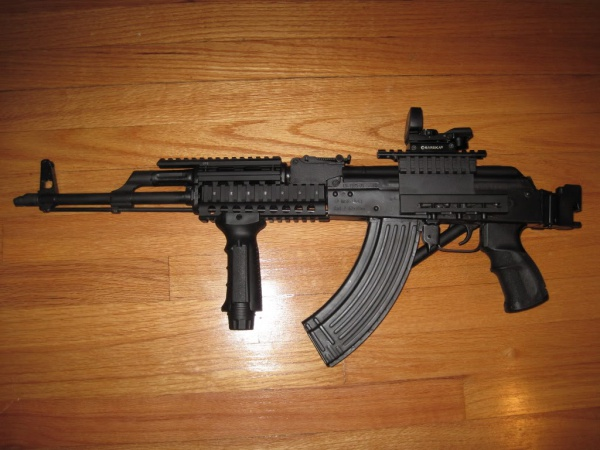ak47: (13, 107, 582, 368)
